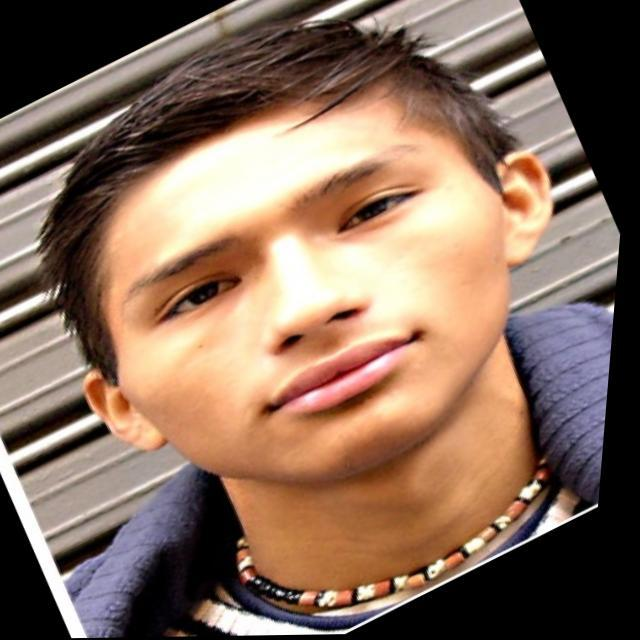Nonhelmet: (43, 21, 560, 478)
